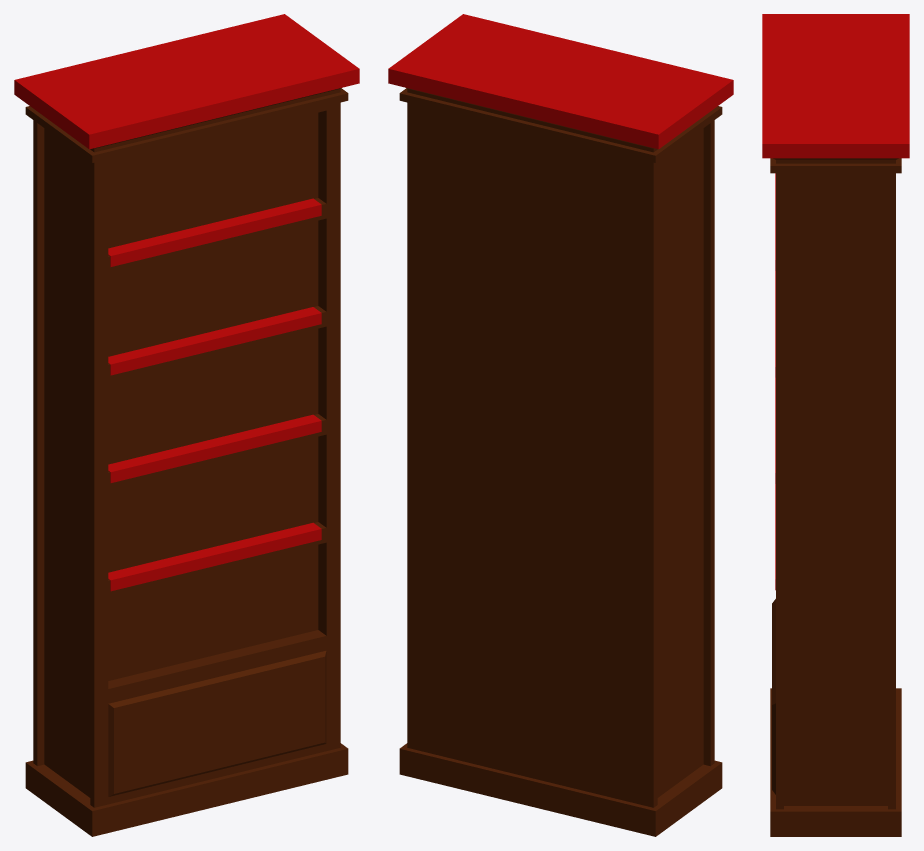
File: Bookshelf.FBX
The picture shows the model from 3 angles, left to right: view 1: azimuth 30°, elevation 25°; view 2: azimuth 150°, elevation 25°; view 3: azimuth 270°, elevation 25°; orthographic projection.
Parts seen in each view (by area): view 1: Bookshelf, TopLedge, Cloth1, Cloth3, Cloth2, Cloth4; view 2: Bookshelf, TopLedge; view 3: Bookshelf, TopLedge.
Part boxes in pixels (x1,y1,x2,y2): Bookshelf: (25, 88, 348, 836); TopLedge: (14, 14, 359, 149); Cloth1: (108, 522, 321, 591); Cloth3: (108, 307, 321, 375); Cloth2: (108, 414, 321, 483); Cloth4: (108, 198, 321, 266); Bookshelf: (399, 88, 722, 836); TopLedge: (388, 14, 733, 149); Bookshelf: (770, 158, 901, 836); TopLedge: (762, 14, 909, 158).
Size of the model in its own units: 0.7683 by 1.92 by 0.3683.
